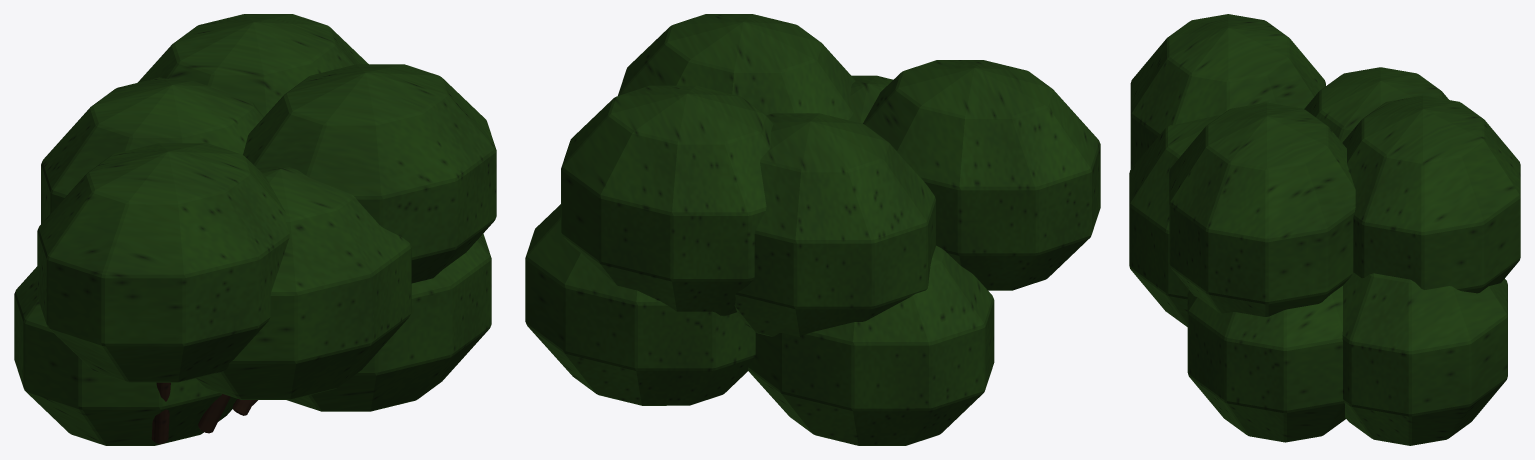
Rendered from PROP-1E72768CE36F_lod1.glb.
3 views of the same model, side by side, from view 1: azimuth 30°, elevation 25°; view 2: azimuth 150°, elevation 25°; view 3: azimuth 270°, elevation 25° (orthographic). The views are drawn at different scales.
Parts seen in each view (by area): view 1: foliage.004, plant_stem.004; view 2: foliage.004; view 3: foliage.004.
Boxes of the visible parts, x1,y1,x2,y2 form: foliage.004: (14, 14, 496, 445); plant_stem.004: (151, 382, 257, 443); foliage.004: (525, 14, 1100, 445); foliage.004: (1129, 14, 1520, 445).
Bounding box in the file's own units: 1.12 × 0.7983 × 0.8704.
2 materials, 2 textured.
